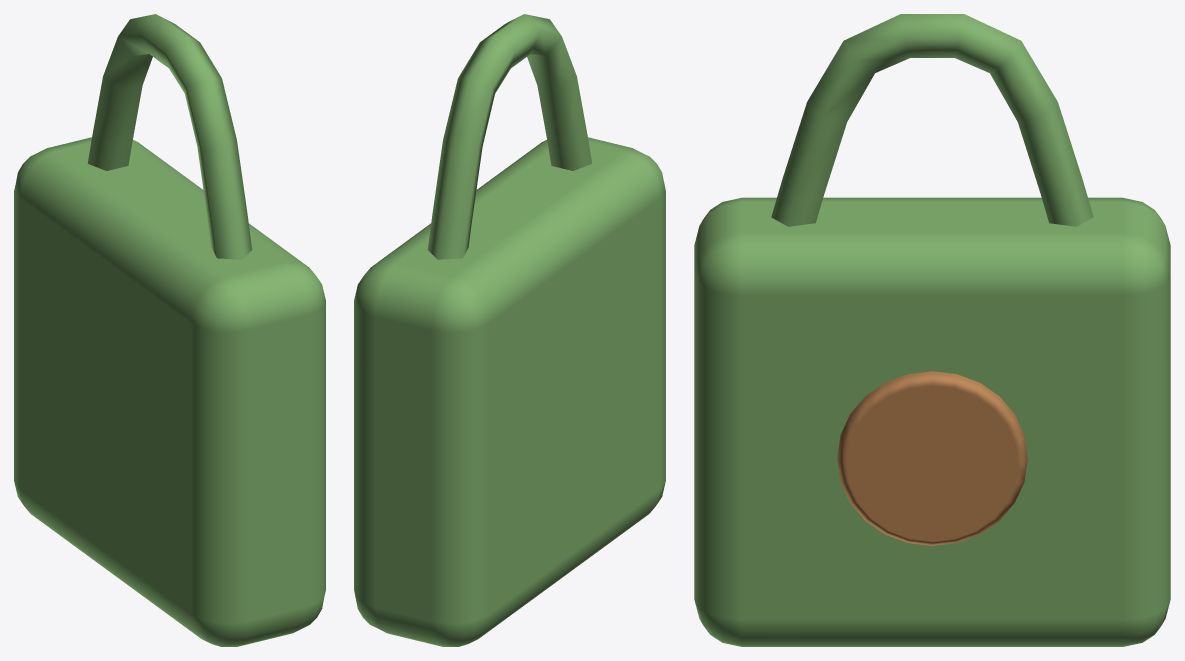
File: camo_tote_bag.glb
The picture shows the model from 3 angles, left to right: view 1: azimuth 30°, elevation 25°; view 2: azimuth 150°, elevation 25°; view 3: azimuth 270°, elevation 25°; orthographic projection. The views are drawn at different scales.
Visible parts, largest first — view 1: camo_tote_bag_ArmR; view 2: camo_tote_bag_ArmR; view 3: camo_tote_bag_ArmR.
Boxes of the visible parts, x1=… form: camo_tote_bag_ArmR: x1=14, y1=14, x2=325, y2=646; camo_tote_bag_ArmR: x1=354, y1=14, x2=665, y2=646; camo_tote_bag_ArmR: x1=694, y1=14, x2=1170, y2=646.
Size of the model in its own units: 0.076 by 0.2842 by 0.2.
